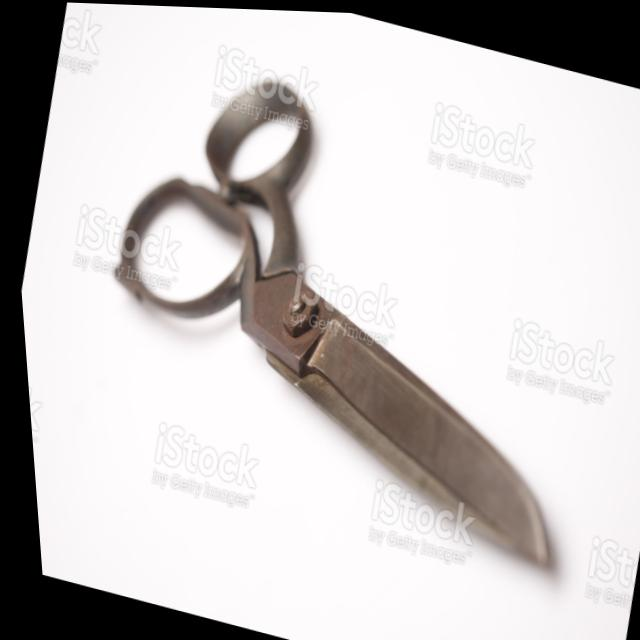scissor: (40, 34, 640, 591)
